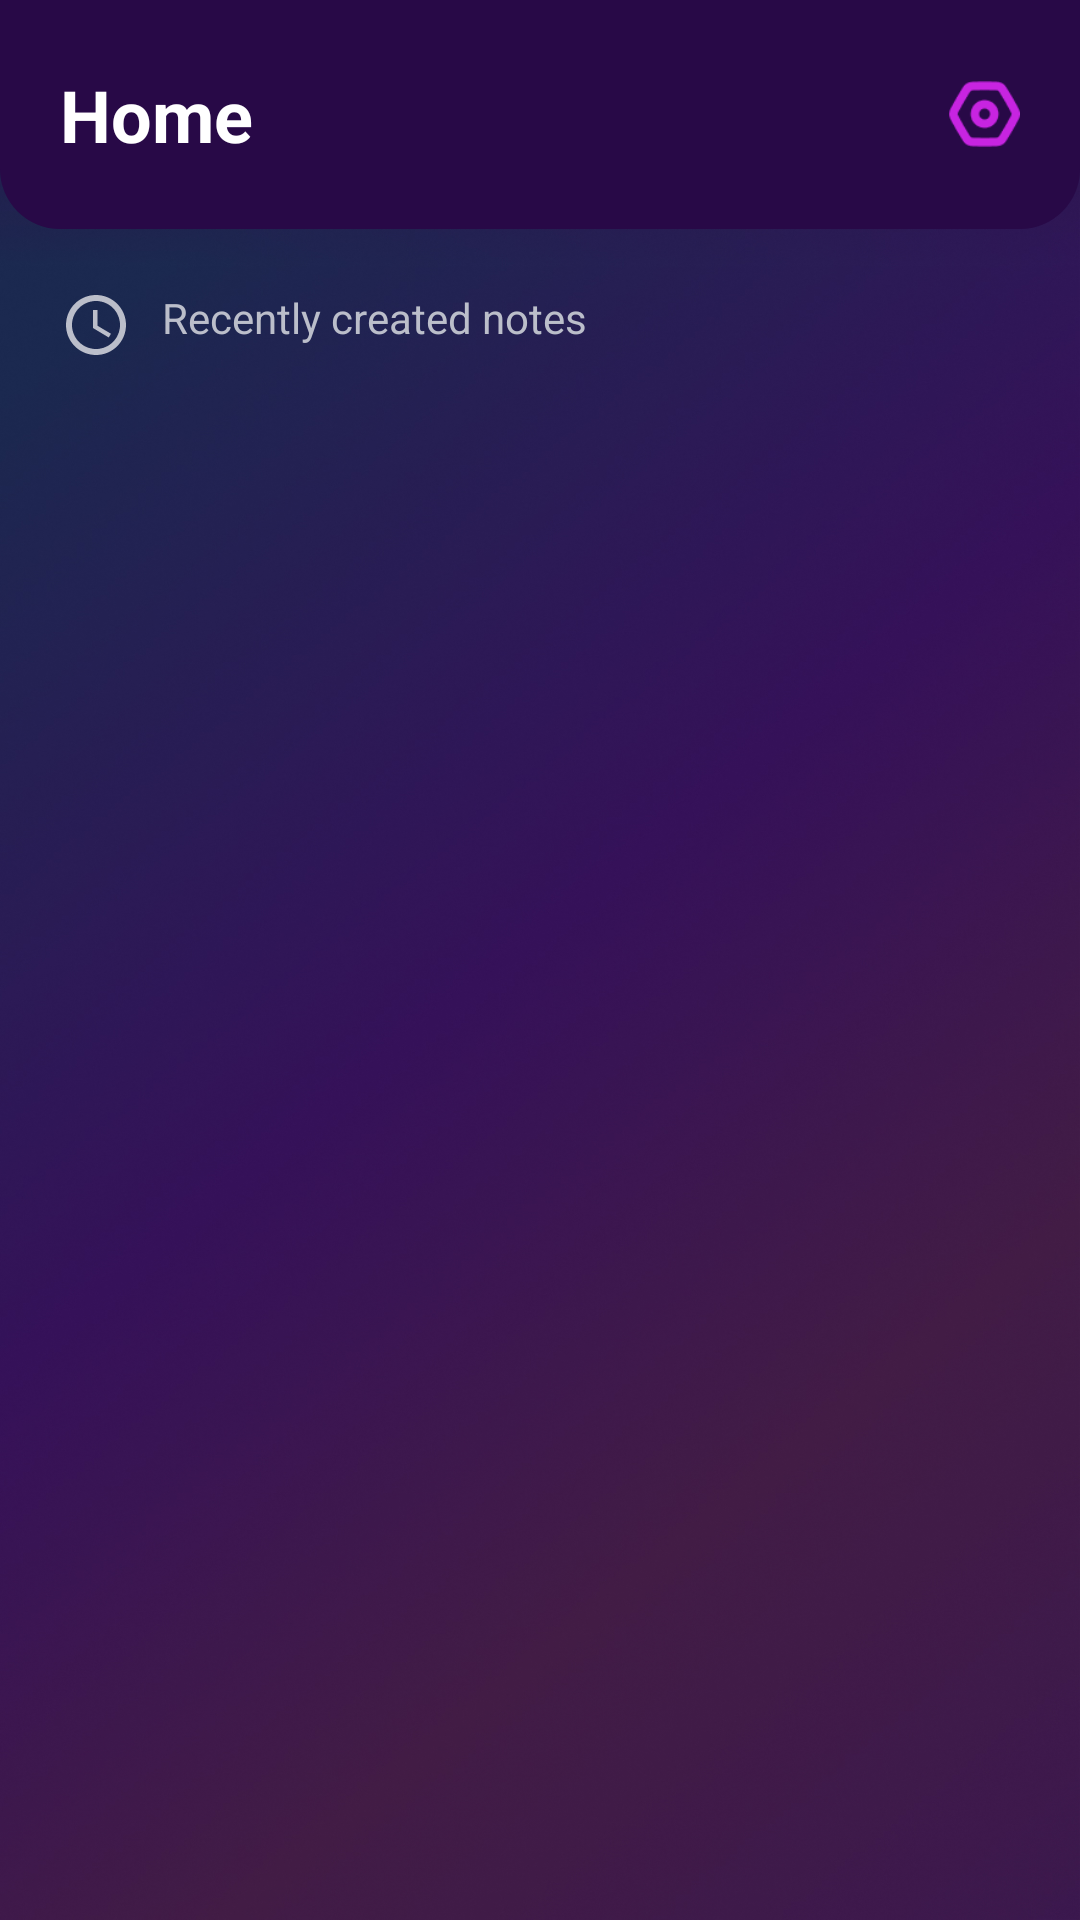

Screen size 1080*1920. Icon name, then its center in pixels as (x=x, y=y):
setting: (x=984, y=114)
